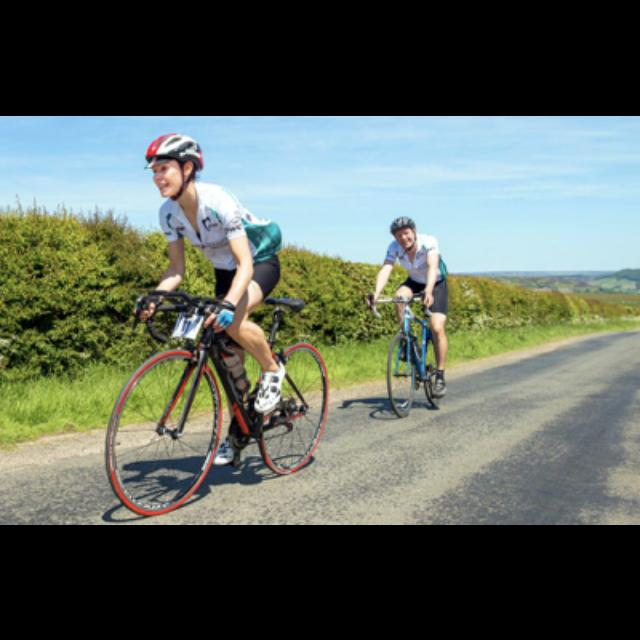With Helmet: (141, 131, 205, 197)
